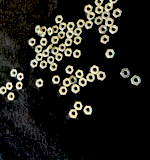nut: (132, 76, 142, 86), (99, 25, 109, 35), (121, 69, 132, 78), (113, 9, 123, 18), (106, 50, 116, 59), (101, 35, 110, 45), (95, 16, 104, 26), (87, 12, 97, 21), (97, 72, 107, 81), (91, 65, 100, 75), (87, 73, 96, 83), (84, 106, 94, 115), (74, 102, 84, 111), (69, 110, 79, 119), (63, 78, 72, 88), (105, 3, 114, 12), (102, 11, 111, 20), (106, 18, 115, 27), (110, 25, 119, 34), (85, 21, 94, 30), (79, 78, 88, 87), (76, 70, 85, 79), (69, 76, 78, 85), (74, 36, 83, 45), (73, 50, 82, 59), (65, 38, 74, 47), (51, 36, 60, 45), (96, 5, 104, 15), (72, 84, 80, 94), (85, 5, 94, 13), (66, 66, 74, 75), (59, 87, 68, 95), (52, 76, 61, 84), (36, 79, 44, 88), (77, 20, 86, 28), (74, 28, 83, 36), (67, 22, 76, 30), (66, 30, 75, 38), (59, 22, 67, 31), (58, 31, 66, 40), (50, 63, 58, 72), (35, 45, 43, 54), (36, 53, 44, 62), (65, 49, 73, 57), (52, 26, 60, 34), (47, 44, 55, 52), (43, 50, 51, 58), (40, 61, 48, 69), (31, 60, 39, 68), (16, 82, 24, 90), (8, 93, 16, 101), (59, 43, 66, 52), (56, 53, 63, 62), (56, 16, 64, 23), (52, 47, 59, 55), (48, 56, 55, 64), (35, 26, 42, 34), (41, 38, 48, 46), (29, 38, 36, 46), (17, 73, 24, 81), (6, 83, 14, 90), (0, 87, 7, 95), (48, 27, 54, 36), (11, 70, 18, 77), (95, 1, 104, 6), (38, 32, 46, 37), (110, 0, 119, 4), (42, 27, 48, 33)
